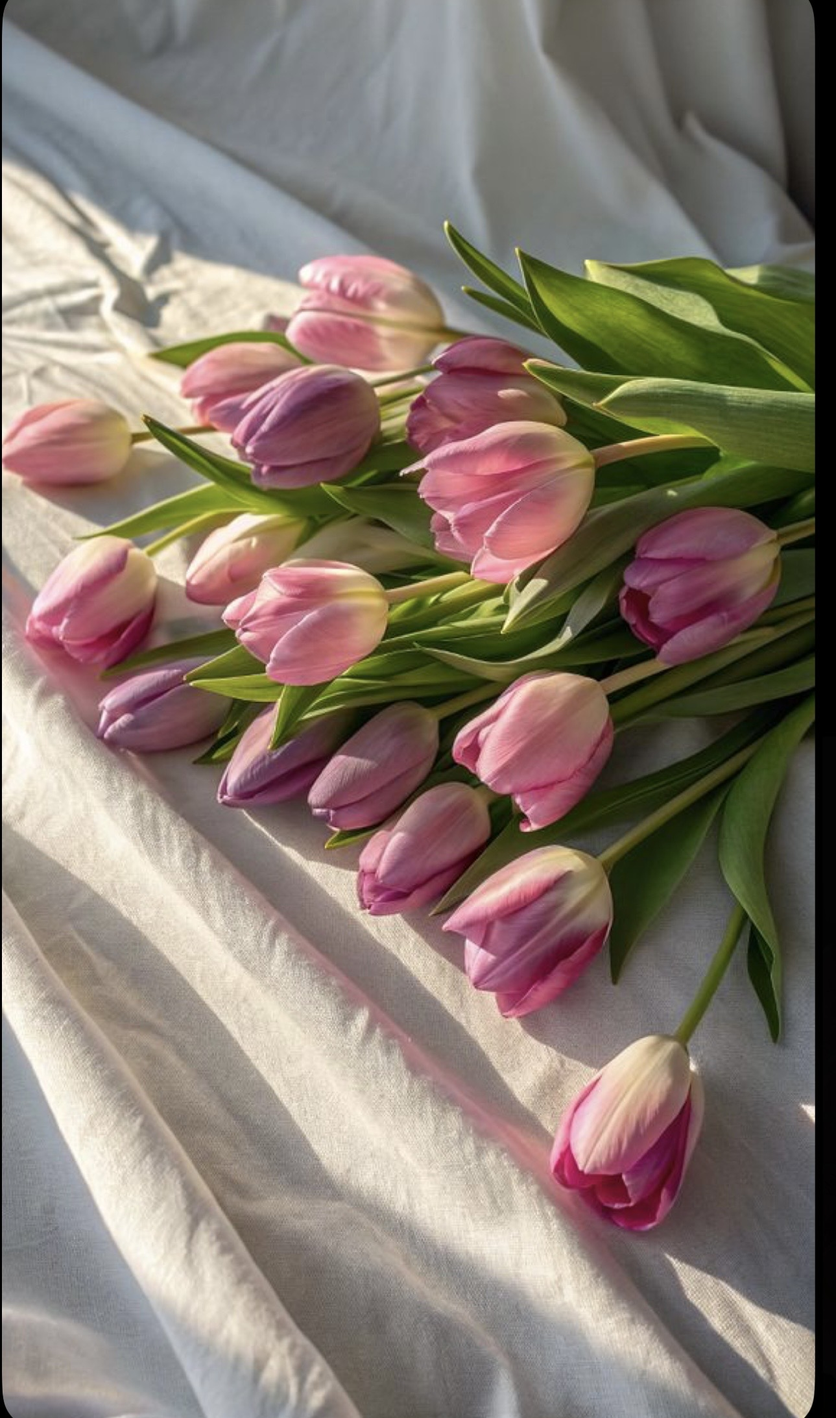tulip: (388, 415, 599, 598), (436, 836, 635, 1025), (539, 1028, 709, 1238), (445, 662, 621, 844), (610, 498, 788, 665), (390, 331, 578, 464), (225, 548, 399, 689), (221, 349, 384, 499), (208, 678, 369, 819), (17, 525, 167, 671), (281, 247, 455, 371), (350, 778, 496, 924), (303, 693, 447, 840), (88, 643, 255, 762), (166, 491, 319, 619), (173, 334, 315, 443), (2, 393, 138, 492)
